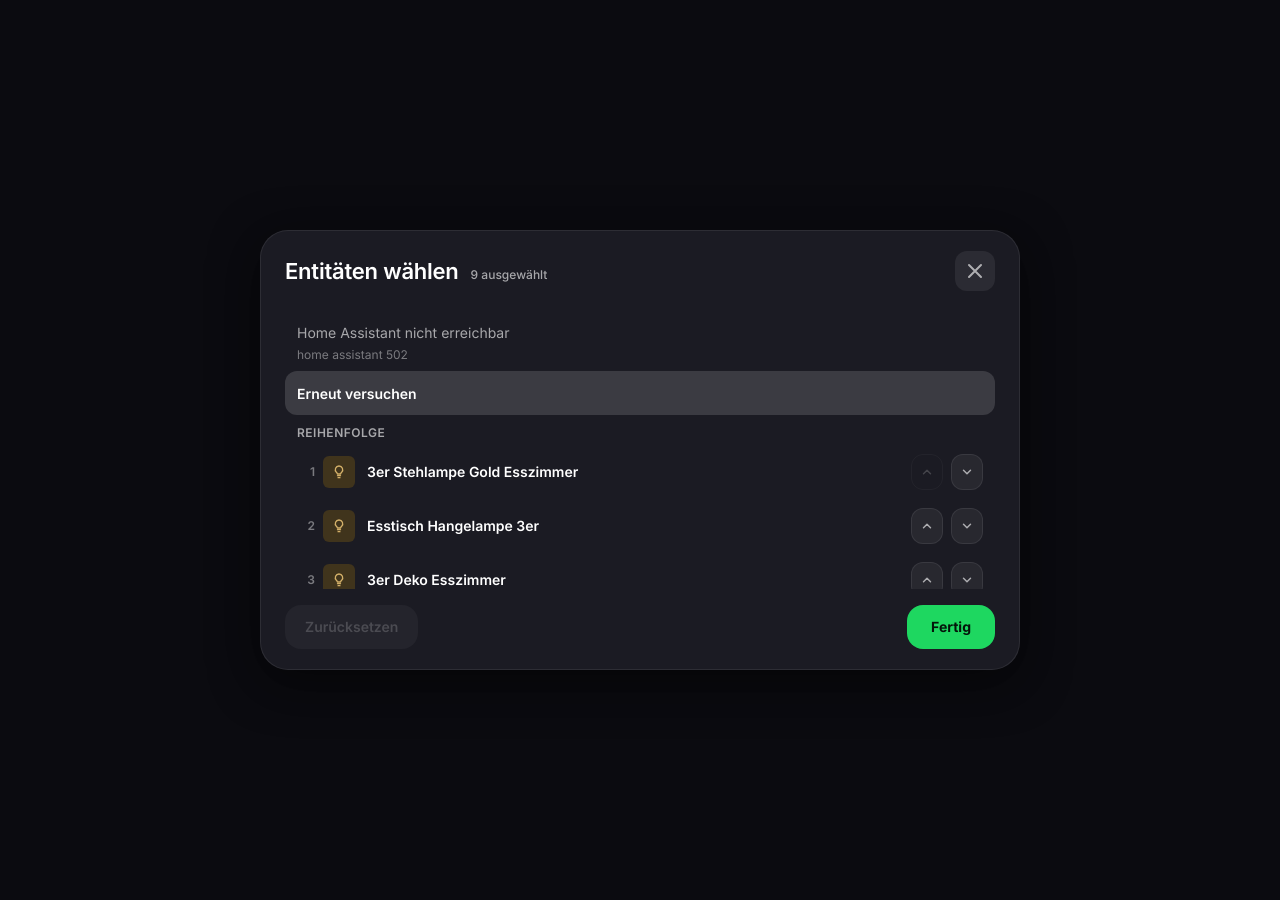
it: HomeEntityPickerModal (ticket 9.3 + issue #37) › a retry reloads the catalog and re-renders the level-1 category cards
Check: the text "home assistant 502" is shown, box [297, 347, 408, 362]
Step 1. Click the button "Erneut versuchen" → {"x": 357, "y": 393}, box [285, 371, 995, 415]
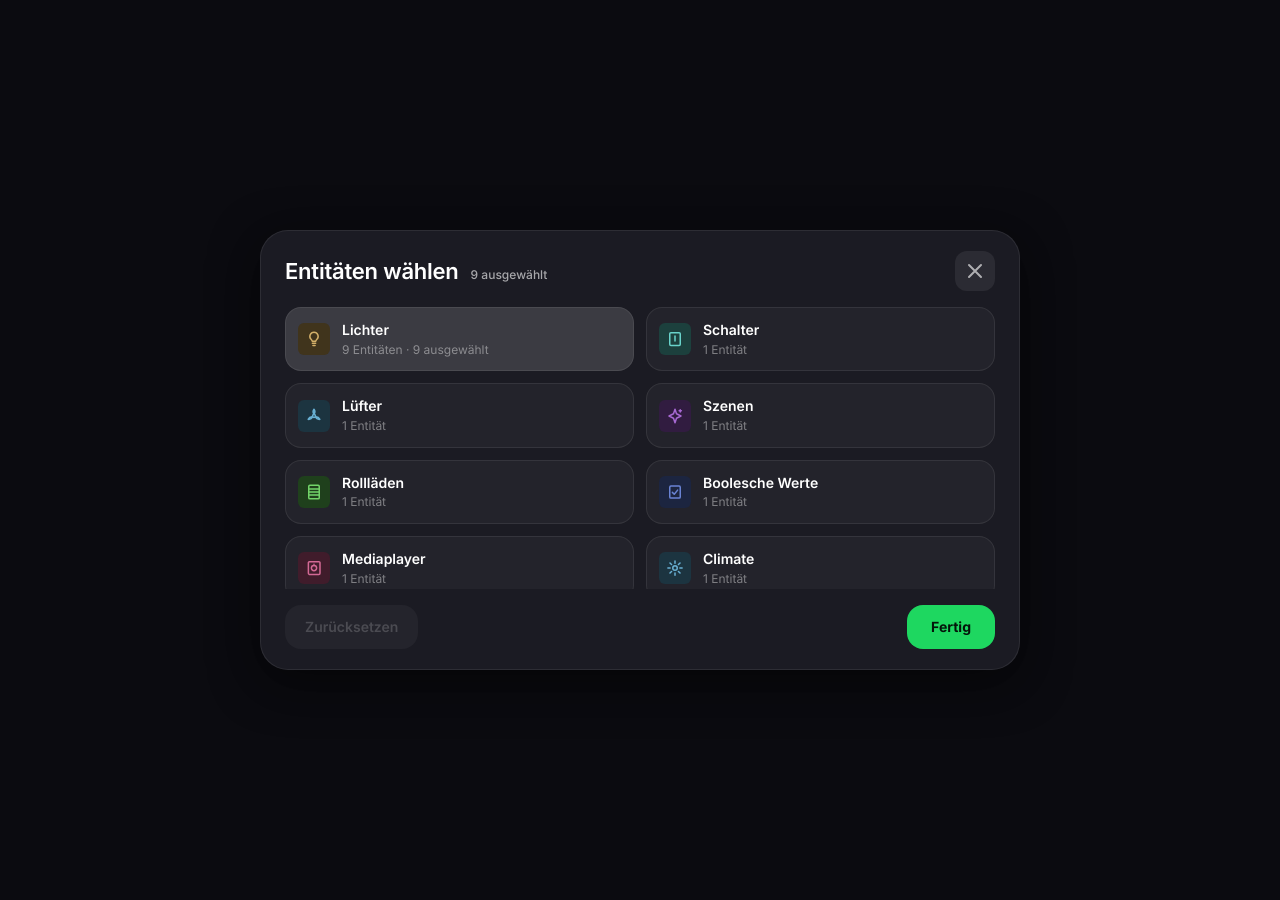
Check: the text "Lichter" is shown, box [342, 321, 389, 338]
Check: the text "Climate" is shown, box [703, 550, 754, 567]
